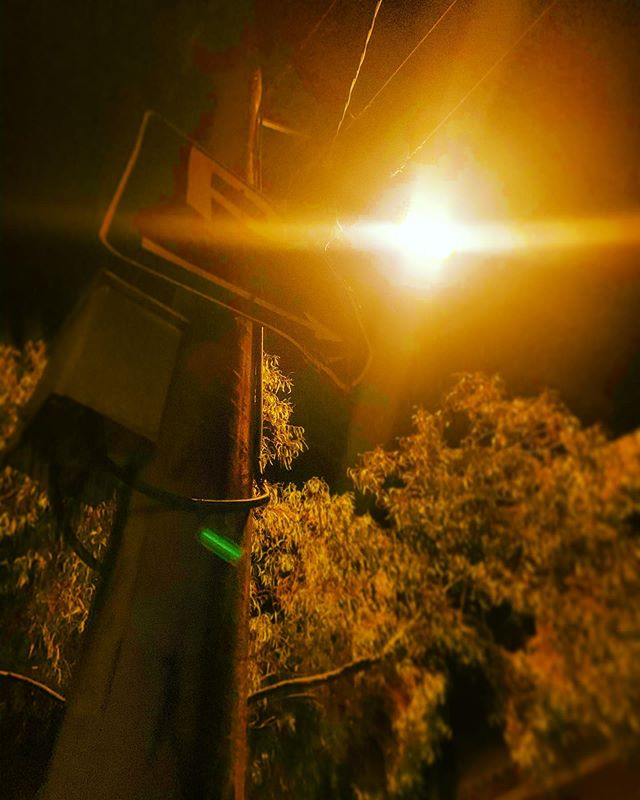sign: (122, 124, 381, 403)
tree: (276, 397, 640, 800)
